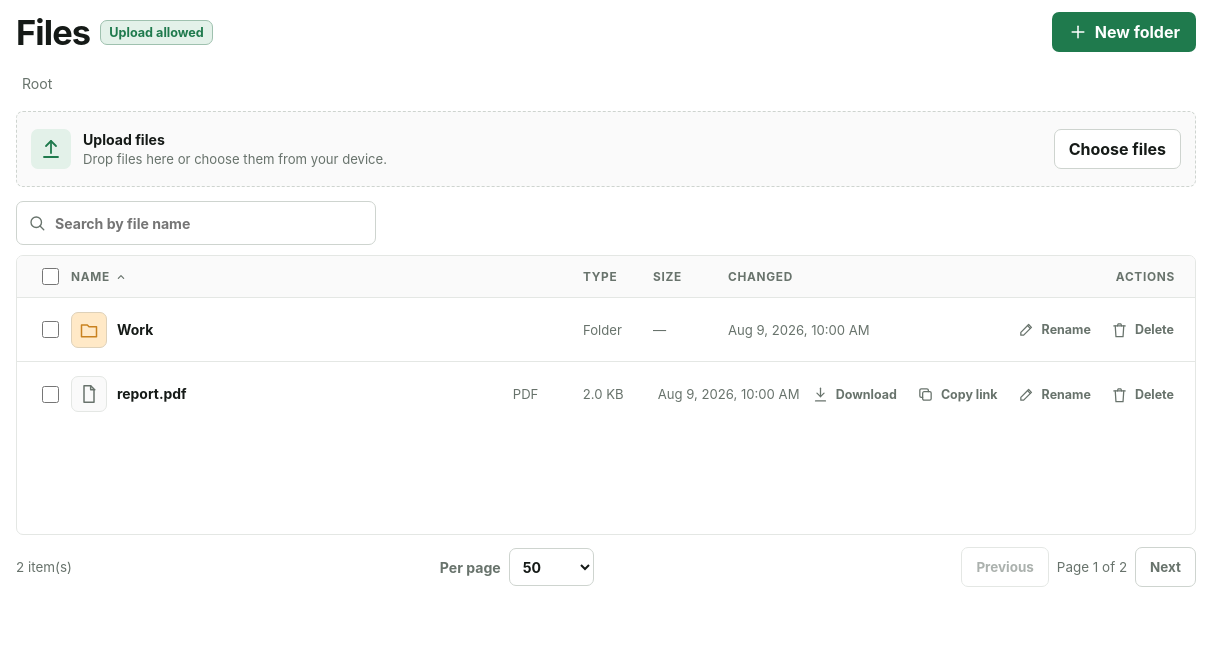
Test: copies an authenticated download link
The image size is (1213, 652).
Expected: the text "report.pdf" is shown, [117,386,187,402]
Click the button with aria-label "Copy link: report.pdf" at (957, 394), box [908,374,1007,414]
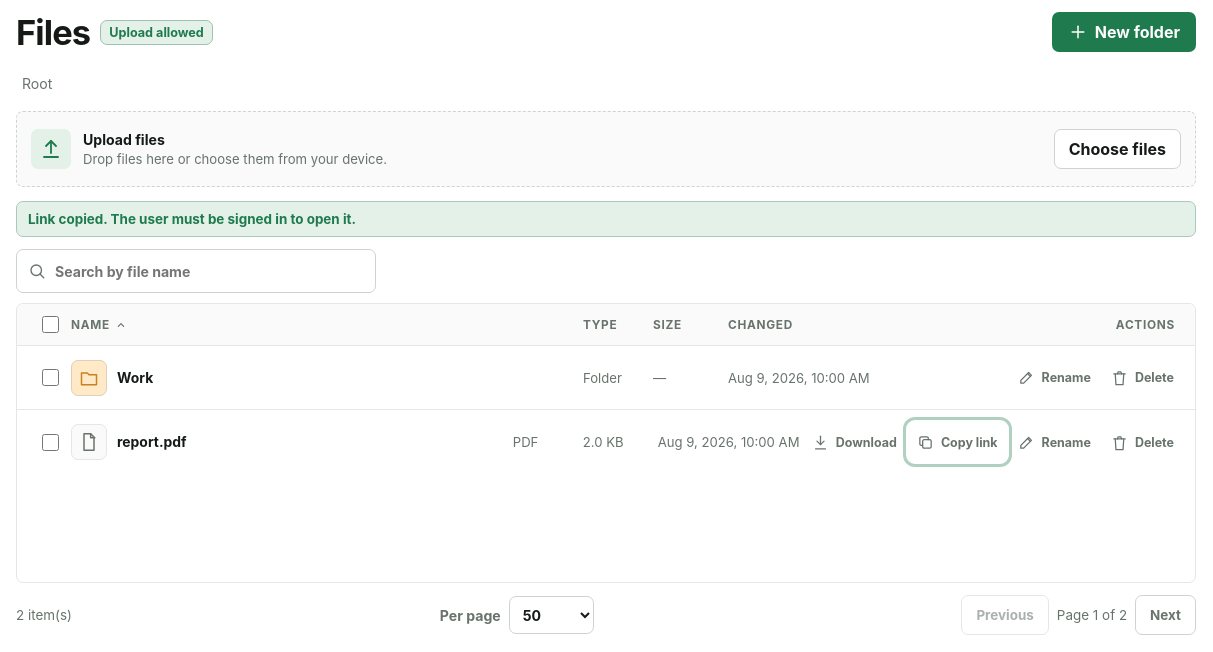
Expected: the text "Link copied. The user must be signed in to open it." is shown, [16,201,1196,237]
